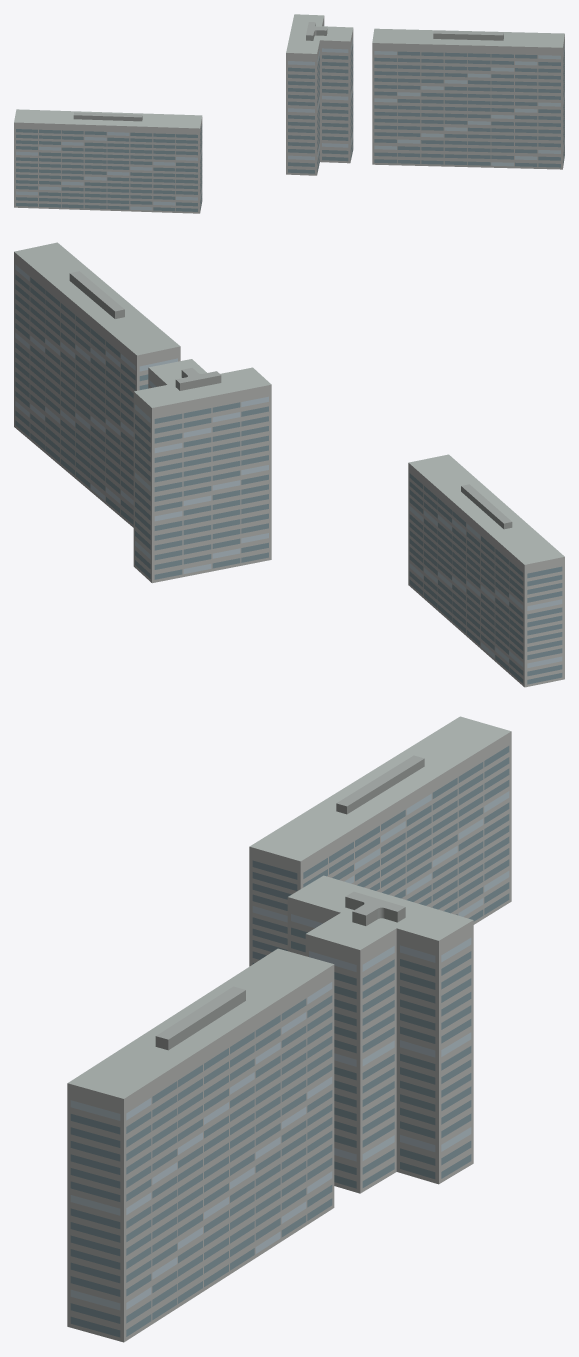
Rendered from apt-a15881601.glb.
3 views of the same model, one above another, from view 1: azimuth 30°, elevation 25°; view 2: azimuth 150°, elevation 25°; view 3: azimuth 270°, elevation 25° (orthographic). The views are drawn at different scales.
Parts seen in each view (by area): view 1: apt-a15881601; view 2: apt-a15881601; view 3: apt-a15881601.
Boxes of the visible parts, x1,y1,x2,y2 form: apt-a15881601: (14,14,564,213); apt-a15881601: (14,242,564,687); apt-a15881601: (67,716,511,1342).
Size of the model in its own units: 219 by 57 by 90.21.
